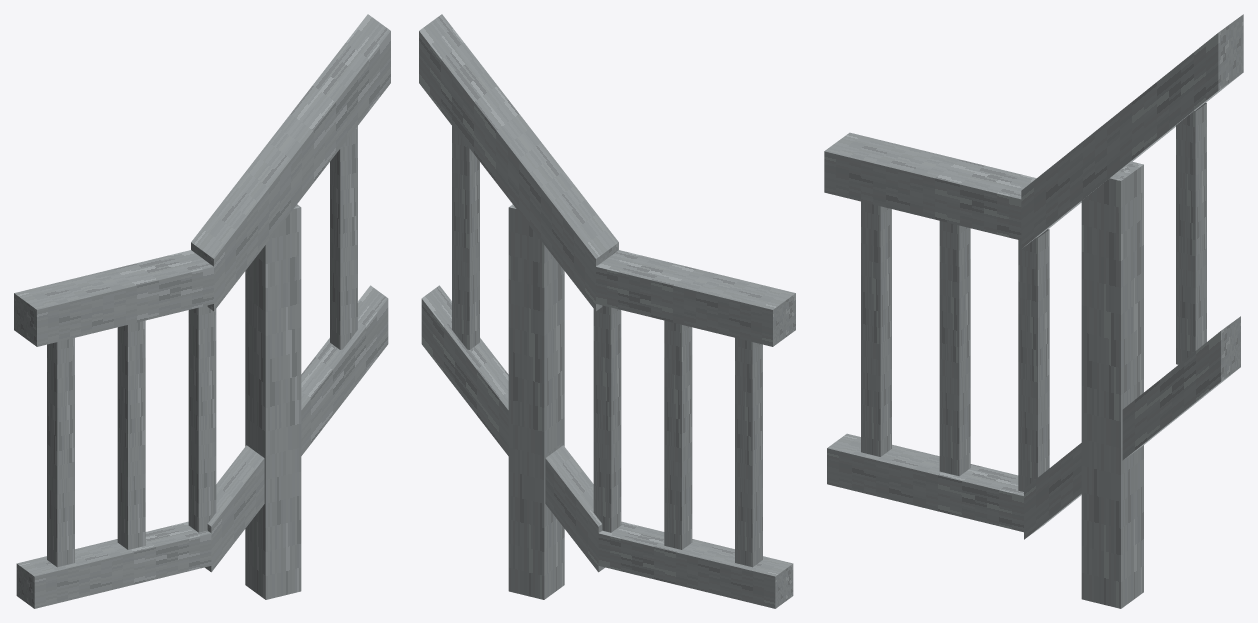
File: foot_pos.obj
3 views of the same model, side by side, from view 1: azimuth 30°, elevation 25°; view 2: azimuth 150°, elevation 25°; view 3: azimuth 330°, elevation 25° (orthographic). The views are drawn at different scales.
Parts seen in each view (by area): view 1: railing_picket_galvanized_foot_pos; view 2: railing_picket_galvanized_foot_pos; view 3: railing_picket_galvanized_foot_pos.
Boxes of the visible parts, x1,y1,x2,y2 form: railing_picket_galvanized_foot_pos: (14, 14, 390, 608); railing_picket_galvanized_foot_pos: (419, 14, 795, 608); railing_picket_galvanized_foot_pos: (824, 14, 1243, 608).
Size of the model in its own units: 1 by 1.46 by 0.1125.
